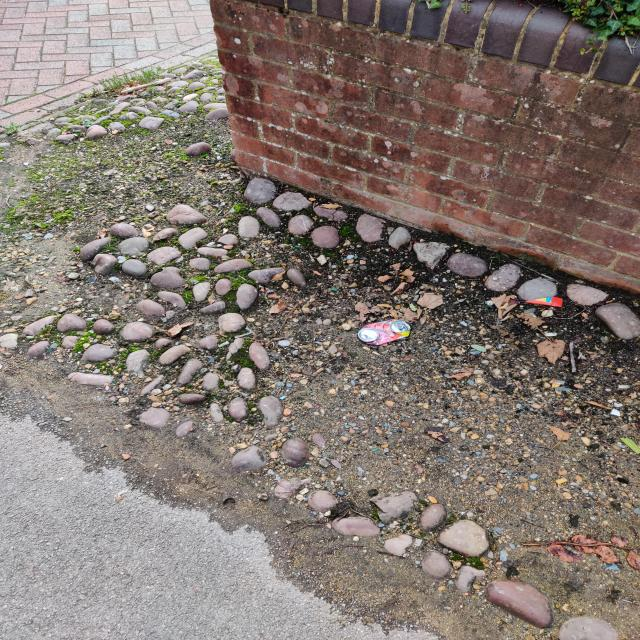litter: (358, 319, 411, 346), (525, 297, 564, 307)
